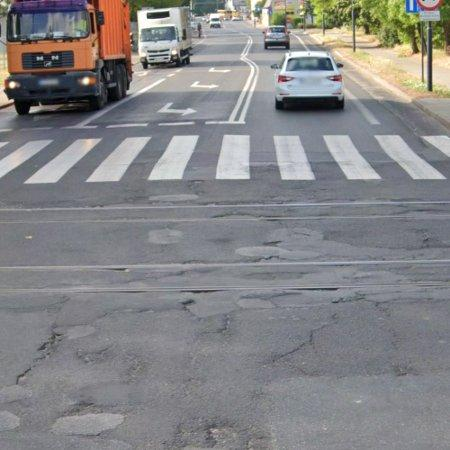crosswalks: (0, 132, 450, 184)
